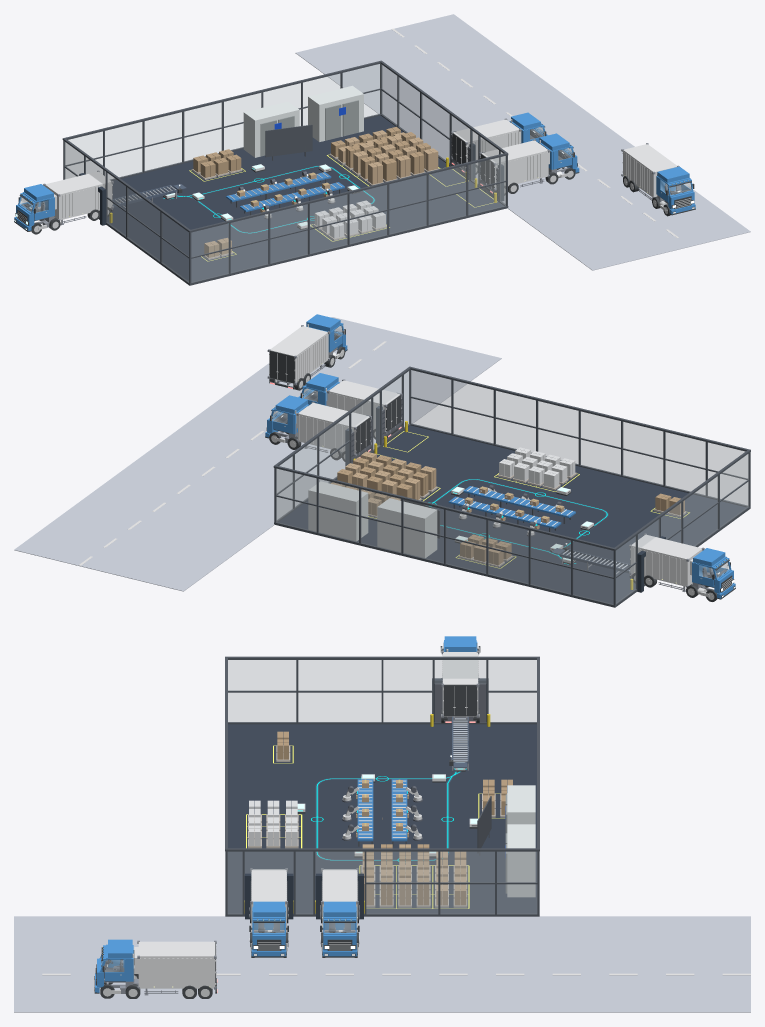
Rendered from smart_warehouse.glb.
3 renders of one model, top to bottom at view 1: azimuth 30°, elevation 25°; view 2: azimuth 150°, elevation 25°; view 3: azimuth 270°, elevation 25°, orthographic. The views are drawn at different scales.
Parts seen in each view (by area): view 1: Truck_Road_East, Warehouse_Floor, Glass_Wall_South, Glass_Wall_North, Truck_Stationary_Dock1, Glass_Wall_West_S1, Truck_Stationary_Dock3, Truck_Moving_Road, Glass_Wall_East_S3, Truck_Stationary_Dock2, Cold_Room_2_Frame, Cold_Room_1_Frame (+14 smaller); view 2: Truck_Road_East, Warehouse_Floor, Glass_Wall_North, Glass_Wall_South, Truck_Stationary_Dock1, Truck_Stationary_Dock2, Glass_Wall_West_S1, Truck_Moving_Road, Glass_Wall_East_S3, Truck_Stationary_Dock3, Cold_Room_1_Frame, Cold_Room_2_Frame (+13 smaller); view 3: Truck_Road_East, Warehouse_Floor, Glass_Wall_West_S1, Glass_Wall_East_S3, Truck_Moving_Road, Truck_Stationary_Dock2, Truck_Stationary_Dock3, Truck_Stationary_Dock1, Glass_Wall_West_S3, Cold_Room_2_Frame, Mullion_Top_East, Mullion_Top_West (+14 smaller).
Part boxes in pixels (x1,y1,x2,y2): Truck_Road_East: [295, 14, 750, 270]; Warehouse_Floor: [107, 115, 503, 281]; Glass_Wall_South: [191, 156, 505, 282]; Glass_Wall_North: [65, 64, 380, 179]; Truck_Stationary_Dock1: [14, 170, 113, 234]; Glass_Wall_West_S1: [107, 173, 188, 281]; Truck_Stationary_Dock3: [479, 133, 579, 195]; Truck_Moving_Road: [621, 143, 695, 216]; Glass_Wall_East_S3: [382, 65, 449, 163]; Truck_Stationary_Dock2: [451, 112, 547, 174]; Cold_Room_2_Frame: [308, 85, 363, 141]; Cold_Room_1_Frame: [243, 101, 299, 157]; Truck_Road_East: [14, 317, 501, 591]; Warehouse_Floor: [278, 425, 745, 603]; Glass_Wall_North: [276, 469, 613, 604]; Glass_Wall_South: [411, 370, 747, 505]; Truck_Stationary_Dock1: [629, 533, 735, 601]; Truck_Stationary_Dock2: [265, 395, 371, 461]; Glass_Wall_West_S1: [661, 454, 748, 545]; Truck_Moving_Road: [267, 314, 347, 390]; Glass_Wall_East_S3: [277, 415, 349, 519]; Truck_Stationary_Dock3: [298, 373, 402, 439]; Cold_Room_1_Frame: [377, 498, 437, 557]; Cold_Room_2_Frame: [308, 481, 368, 541]; Truck_Road_East: [14, 916, 750, 1012]; Warehouse_Floor: [228, 724, 536, 913]; Glass_Wall_West_S1: [228, 660, 432, 722]; Glass_Wall_East_S3: [366, 852, 536, 913]; Truck_Moving_Road: [94, 939, 217, 998]; Truck_Stationary_Dock2: [320, 868, 359, 957]; Truck_Stationary_Dock3: [249, 868, 288, 957]; Truck_Stationary_Dock1: [440, 636, 480, 723]; Glass_Wall_West_S3: [488, 660, 536, 722]; Cold_Room_2_Frame: [507, 824, 535, 897]; Mullion_Top_East: [225, 848, 539, 851]; Mullion_Top_West: [225, 656, 536, 659].
Size of what is drawn, in the model's own units: 55.59 by 5.5 by 52.
